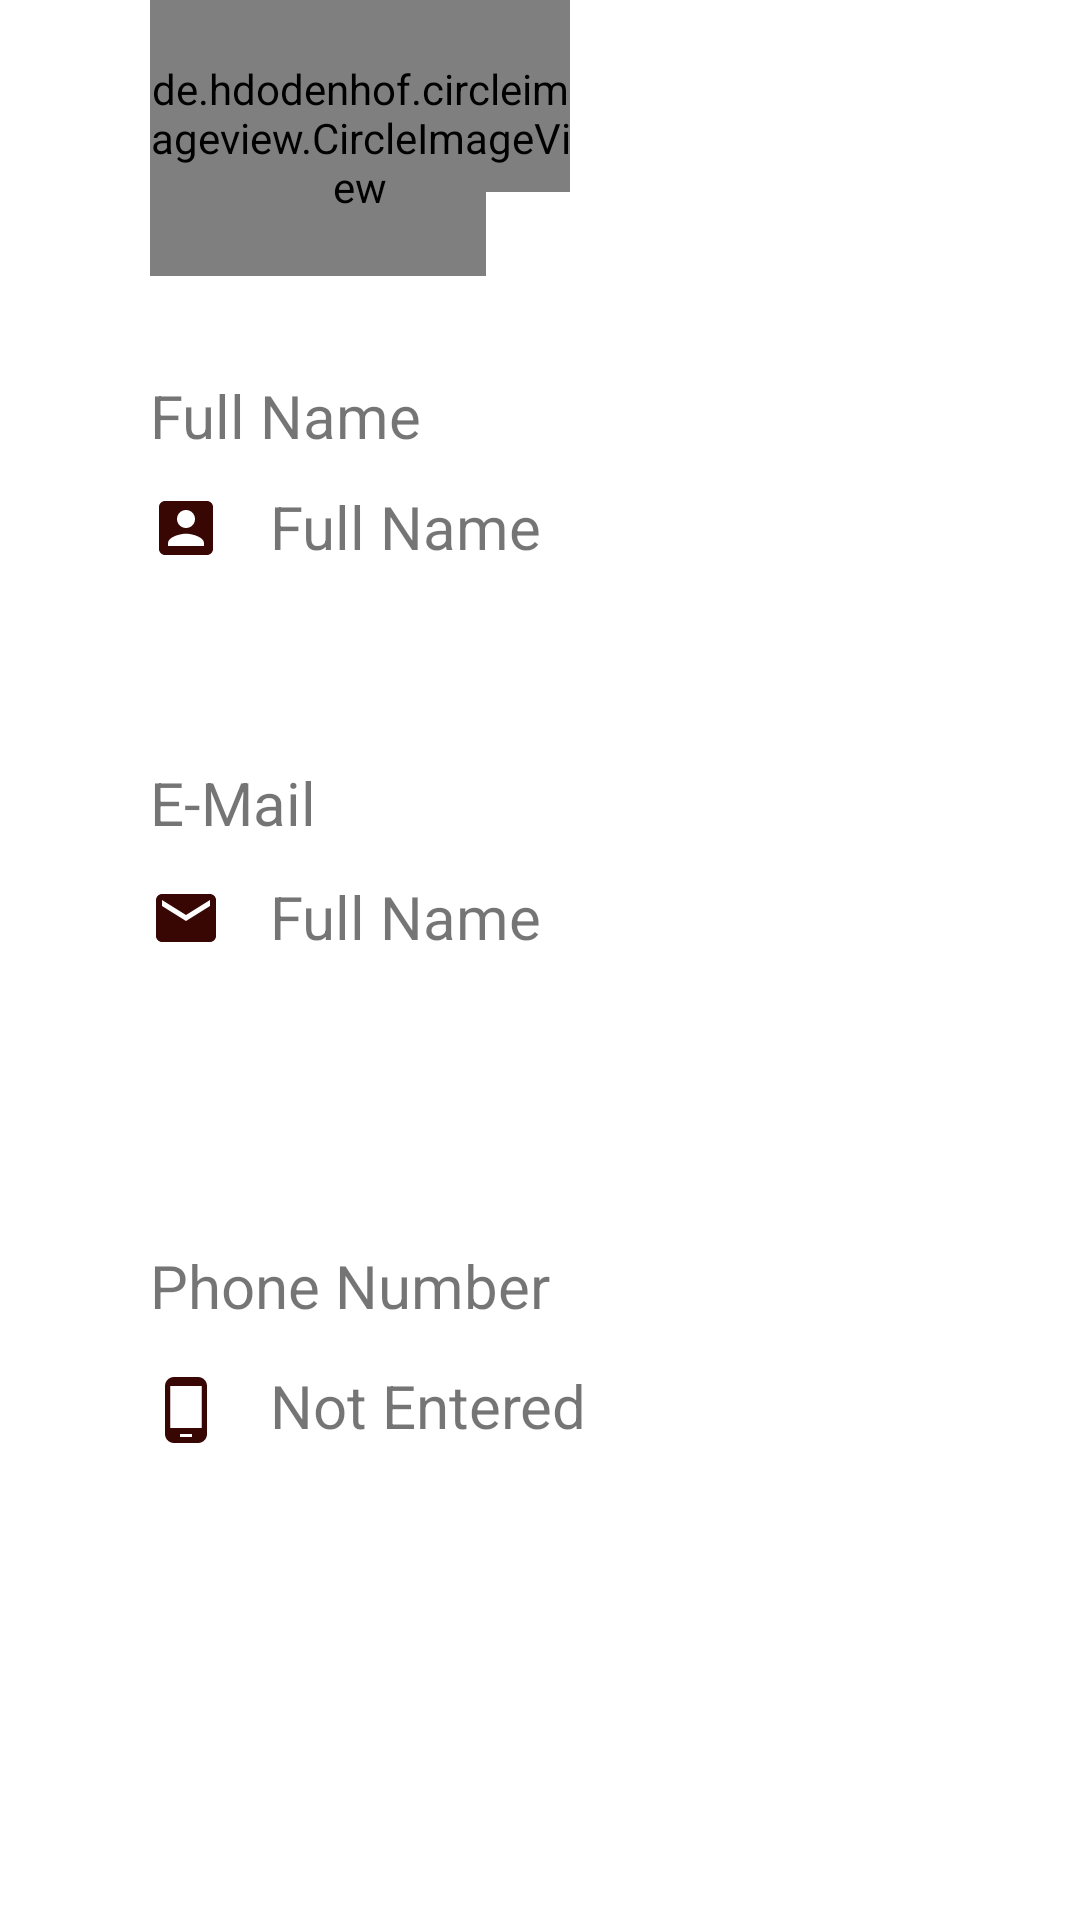

Icon click points for this 1080x1920 phone screenshot, format point (x, y):
account box: point (186, 528)
phone android: point (186, 1410)
